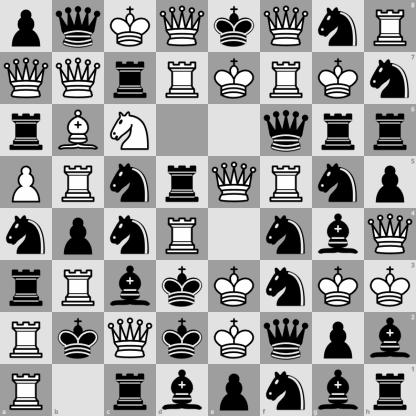B: (53, 105, 104, 156)
K: (364, 260, 416, 312), (105, 1, 156, 52), (209, 53, 260, 104), (209, 261, 260, 312), (209, 313, 260, 364), (313, 53, 364, 104), (313, 261, 364, 312)
N: (105, 105, 156, 156)
P: (1, 157, 52, 208)
Q: (364, 209, 416, 260), (1, 53, 52, 104), (53, 53, 104, 104), (105, 313, 156, 364), (157, 1, 208, 52), (209, 157, 260, 208), (261, 1, 312, 52)
R: (0, 364, 52, 416), (364, 0, 416, 52), (1, 313, 52, 364), (53, 157, 104, 208), (53, 261, 104, 312), (157, 53, 208, 104), (157, 209, 208, 260), (261, 53, 312, 104), (261, 157, 312, 208)
b: (156, 364, 209, 416), (312, 364, 364, 416), (364, 312, 416, 364), (105, 261, 156, 312), (313, 209, 364, 260)
board: (0, 0, 415, 415)
k: (53, 313, 104, 364), (157, 261, 208, 312), (157, 313, 208, 364), (209, 1, 260, 52)
n: (260, 364, 312, 416), (364, 52, 416, 104), (1, 209, 52, 260), (105, 157, 156, 208), (105, 209, 156, 260), (261, 209, 312, 260), (261, 261, 312, 312), (313, 1, 364, 52), (313, 157, 364, 208)
p: (364, 156, 416, 209), (209, 364, 260, 416), (1, 1, 52, 52), (53, 209, 104, 260), (313, 313, 364, 364)
q: (53, 1, 104, 52), (261, 105, 312, 156), (261, 313, 312, 364)
r: (104, 364, 156, 416), (364, 104, 416, 156), (364, 364, 416, 416), (1, 105, 52, 156), (1, 261, 52, 312), (105, 53, 156, 104), (157, 157, 208, 208), (313, 105, 364, 156)
